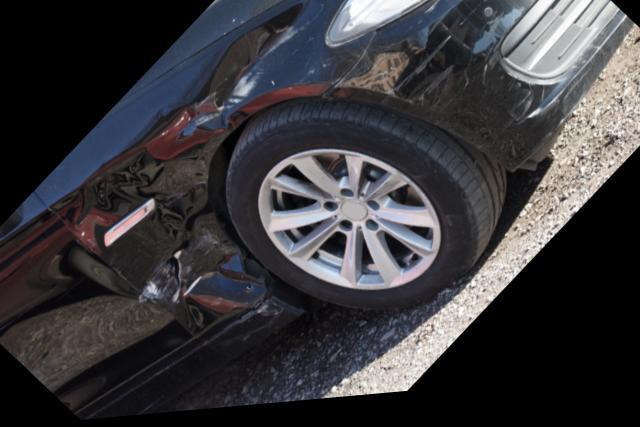crack: (168, 257, 181, 290)
dent: (87, 13, 299, 330)
lamp broken: (329, 0, 440, 49)
scratch: (385, 5, 527, 144)
